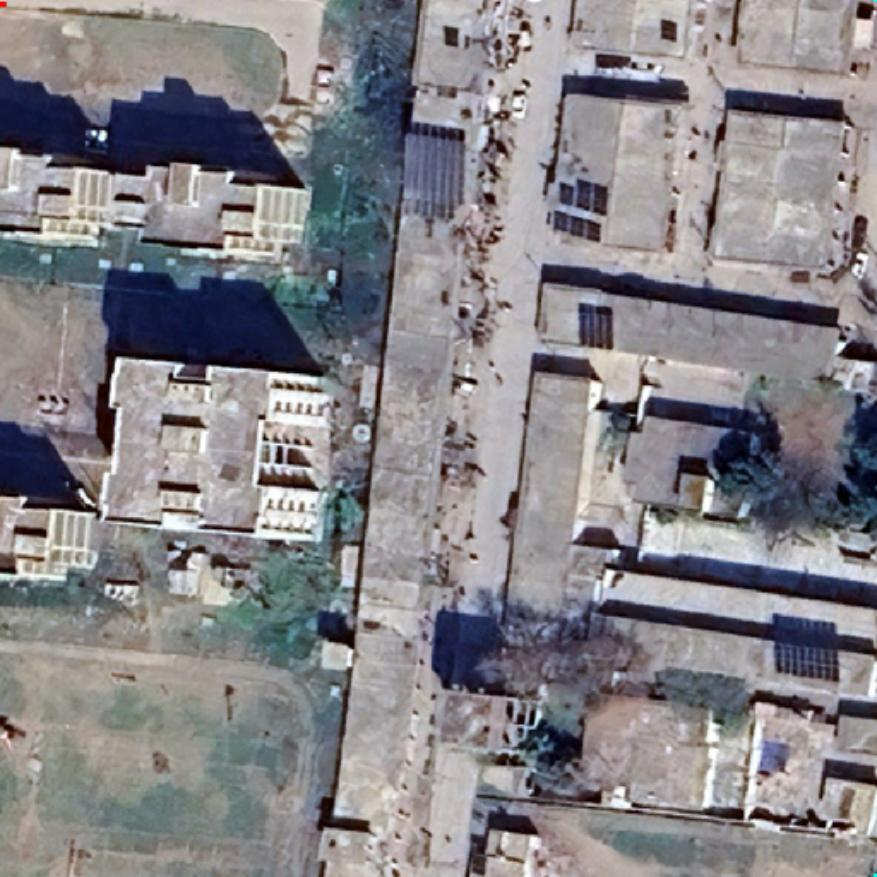Solarpanel: (400, 128, 468, 224), (768, 635, 846, 687), (554, 170, 614, 220), (544, 204, 606, 246), (573, 296, 617, 354)
